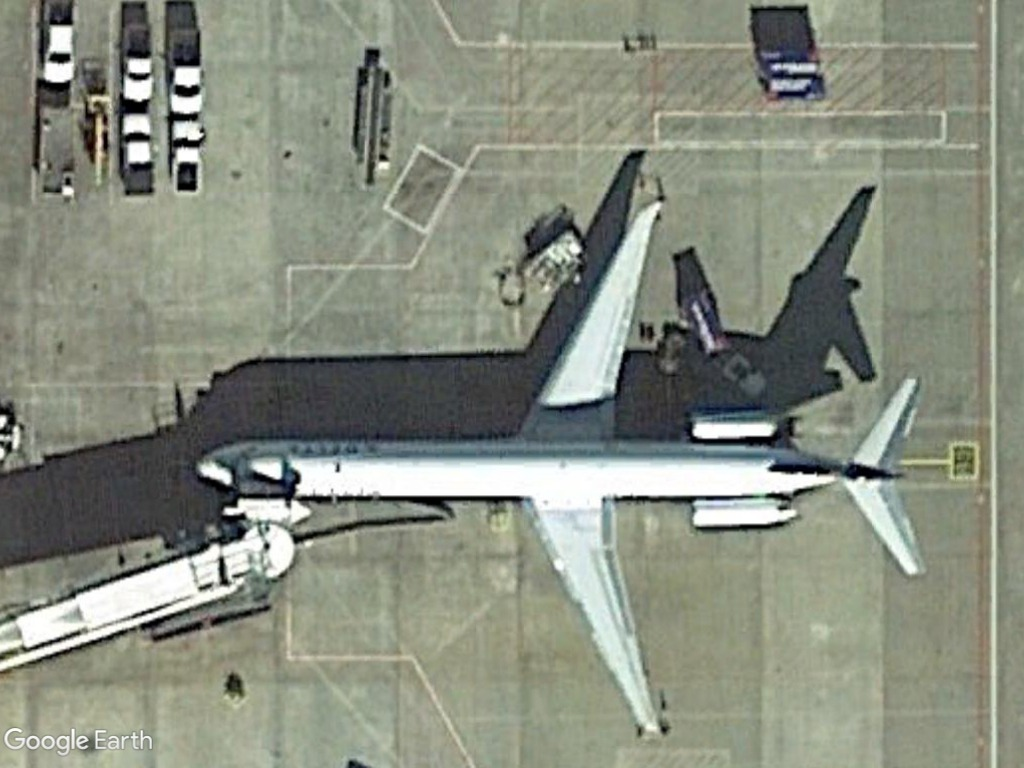chartered: (187, 194, 928, 760)
